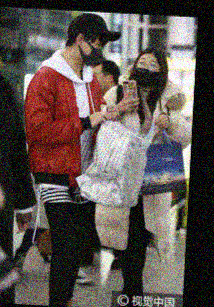with_mask: (131, 56, 161, 88), (81, 40, 103, 68)
